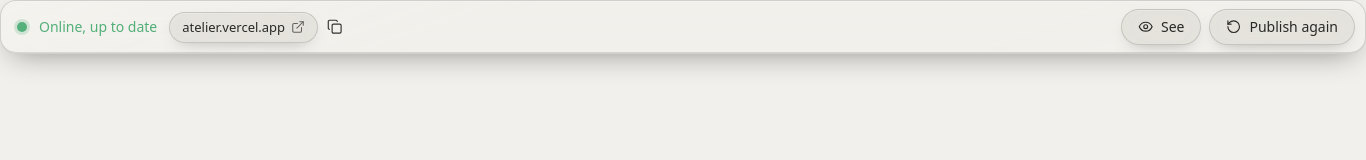
Scenario: the site bar › says a refused copy, never only in the log
Click the button named "Copy the address" at [335, 27], box left=320, top=12, right=350, bottom=42
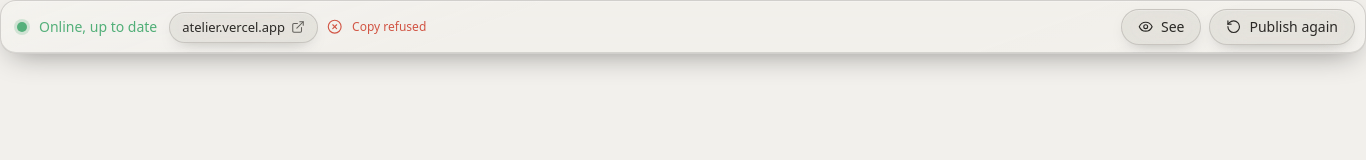
Result: the text "Copy refused" is shown at left=352, top=18, right=426, bottom=36
